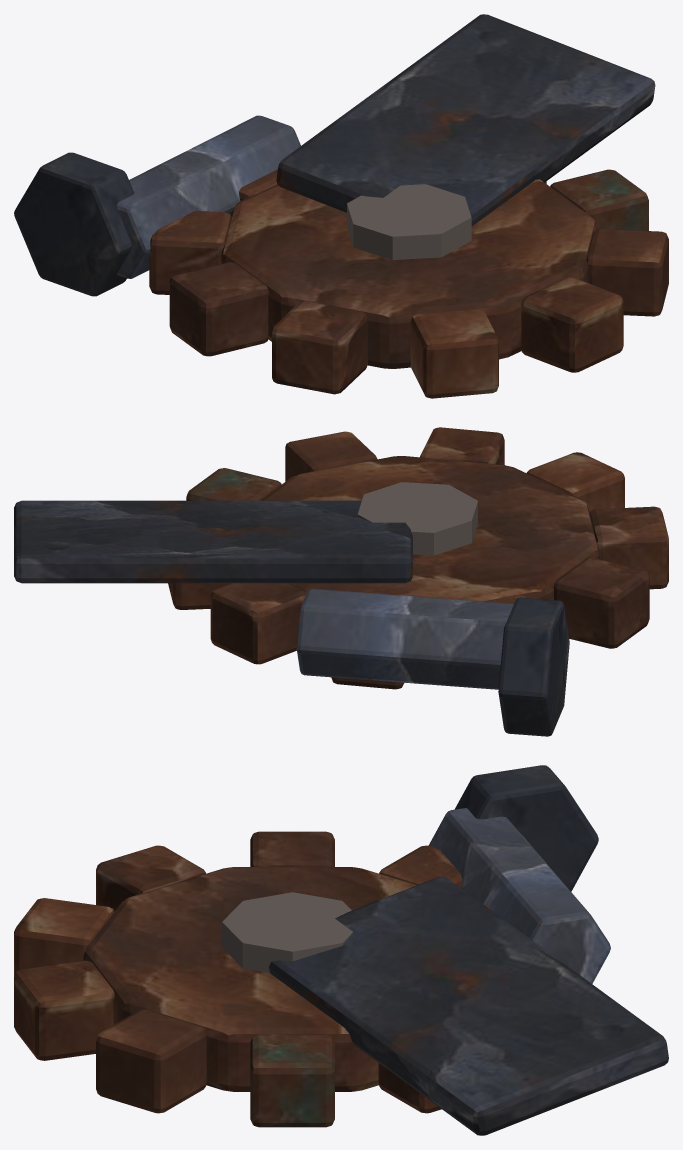
Rendered from rusty_scrap.glb.
3 views of the same model, one above another, from view 1: azimuth 30°, elevation 25°; view 2: azimuth 150°, elevation 25°; view 3: azimuth 270°, elevation 25° (orthographic). The views are drawn at different scales.
Visible parts, largest first — view 1: model; view 2: model; view 3: model.
Part boxes in pixels (x1,y1,x2,y2): model: [14, 14, 668, 398]; model: [14, 427, 668, 736]; model: [14, 765, 668, 1135].
Bounding box in the file's own units: 0.2663 × 0.0485 × 0.2323.
Materials: 4 (3 with a texture image).
